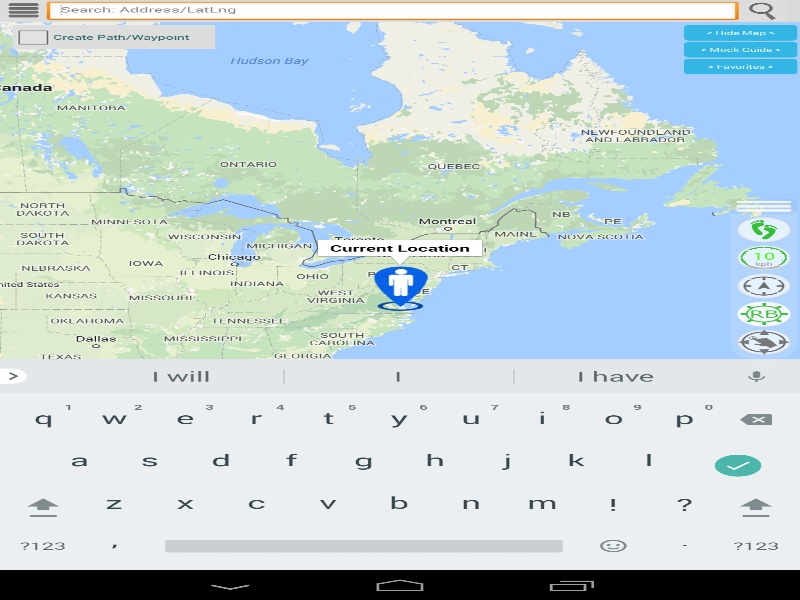Button: (2, 500, 98, 545), (684, 41, 797, 57), (684, 58, 797, 74), (684, 25, 797, 40), (739, 0, 786, 21), (0, 0, 46, 21)
Input: (46, 1, 738, 21)
